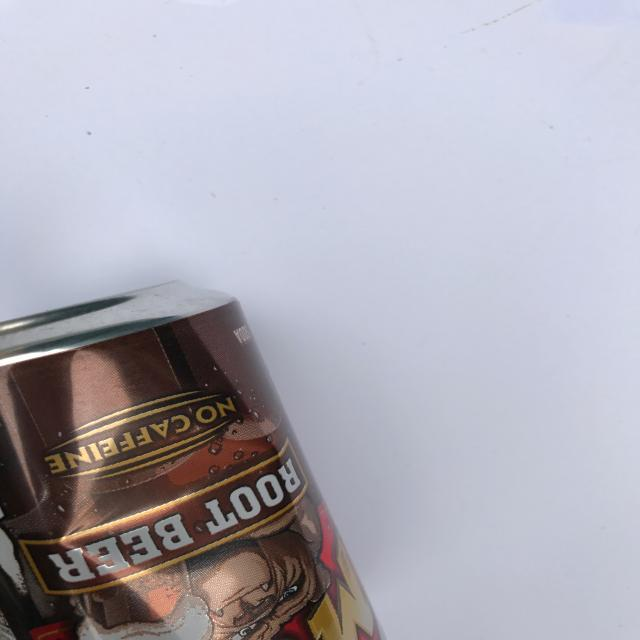metal: (1, 280, 387, 640)
